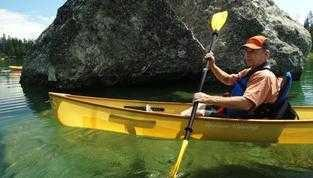kayak: (48, 92, 311, 144)
